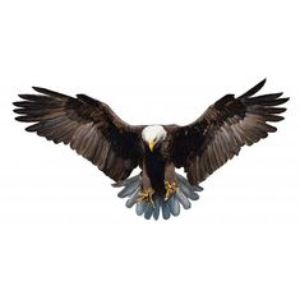eagle: (6, 77, 287, 223)
